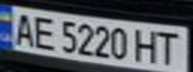0: (109, 25, 133, 61)
2: (90, 21, 112, 60), (75, 20, 96, 57)
5: (54, 18, 78, 55)
A: (6, 10, 39, 47)
E: (30, 13, 60, 51)
H: (133, 27, 163, 64)
T: (154, 28, 187, 65)
